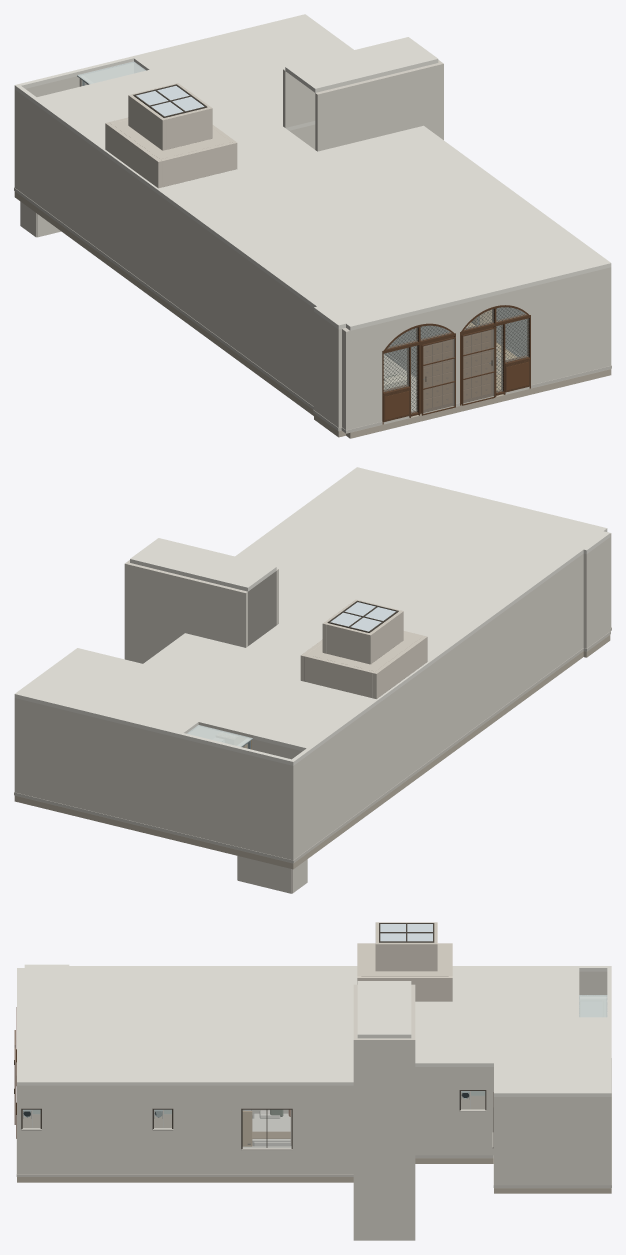
Rendered from house.glb.
3 renders of one model, top to bottom at view 1: azimuth 30°, elevation 25°; view 2: azimuth 150°, elevation 25°; view 3: azimuth 270°, elevation 25°, orthographic. The views are drawn at different scales.
Visible parts, largest first — view 1: ceiling, plaster, Lightwell plaster, F16 clear joinery glass, F16 aged timber, stone_floor, F16 panel timber, F16 dark grille, counter, Lightwell diffuse cover, V10 opal roof sheet.001; view 2: plaster, ceiling, Lightwell plaster, stone_floor, counter, Lightwell diffuse cover, V10 opal roof sheet.001; view 3: ceiling, plaster, Lightwell plaster, stone_floor, counter, glass, bronze, linen, Lightwell diffuse cover, B21 opaque privacy infill, V10 opal roof sheet.001.
Part boxes in pixels (left/top/right/bottom): ceiling: left=14, top=14, right=611, bottom=330; plaster: left=14, top=60, right=611, bottom=433; Lightwell plaster: left=105, top=83, right=237, bottom=188; F16 clear joinery glass: left=384, top=307, right=528, bottom=413; F16 aged timber: left=382, top=305, right=530, bottom=424; stone_floor: left=14, top=191, right=611, bottom=438; F16 panel timber: left=385, top=331, right=528, bottom=420; F16 dark grille: left=383, top=307, right=529, bottom=413; counter: left=14, top=187, right=611, bottom=433; Lightwell diffuse cover: left=136, top=86, right=204, bottom=116; V10 opal roof sheet.001: left=77, top=61, right=145, bottom=84; plaster: left=14, top=532, right=611, bottom=893; ceiling: left=14, top=467, right=610, bottom=765; Lightwell plaster: left=300, top=599, right=427, bottom=698; stone_floor: left=14, top=635, right=610, bottom=869; counter: left=14, top=627, right=611, bottom=863; Lightwell diffuse cover: left=330, top=602, right=395, bottom=631; V10 opal roof sheet.001: left=187, top=725, right=252, bottom=746; ceiling: left=17, top=964, right=611, bottom=1096; plaster: left=17, top=971, right=611, bottom=1240; Lightwell plaster: left=357, top=922, right=452, bottom=1001; stone_floor: left=17, top=1158, right=611, bottom=1193; counter: left=16, top=1058, right=611, bottom=1187; glass: left=243, top=1110, right=291, bottom=1147; bronze: left=14, top=923, right=493, bottom=1148; linen: left=252, top=1110, right=290, bottom=1146; Lightwell diffuse cover: left=380, top=924, right=432, bottom=941; B21 opaque privacy infill: left=22, top=1091, right=485, bottom=1127; V10 opal roof sheet.001: left=579, top=995, right=607, bottom=1017.
Size of the model in its own units: 9.08 by 6.9 by 17.81.
